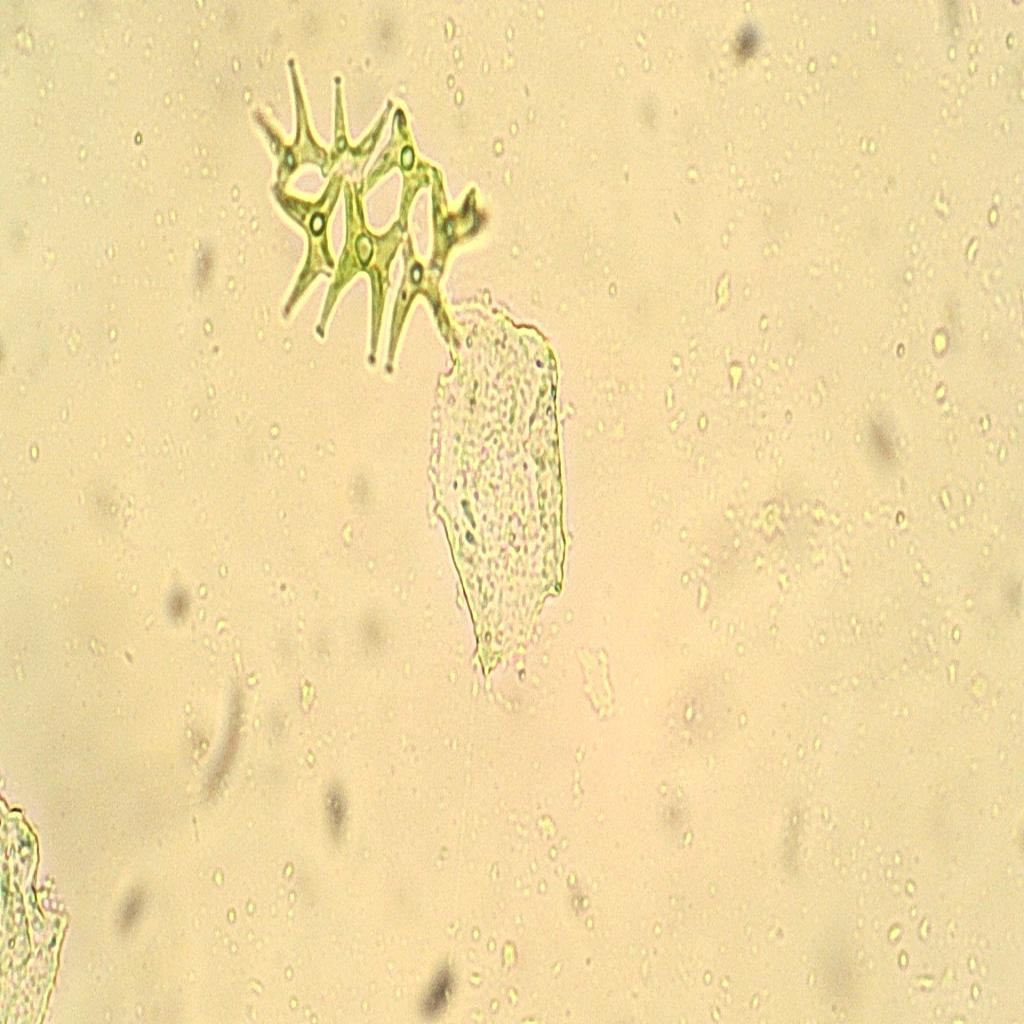Pediastrum_CFI: (228, 52, 505, 385)
